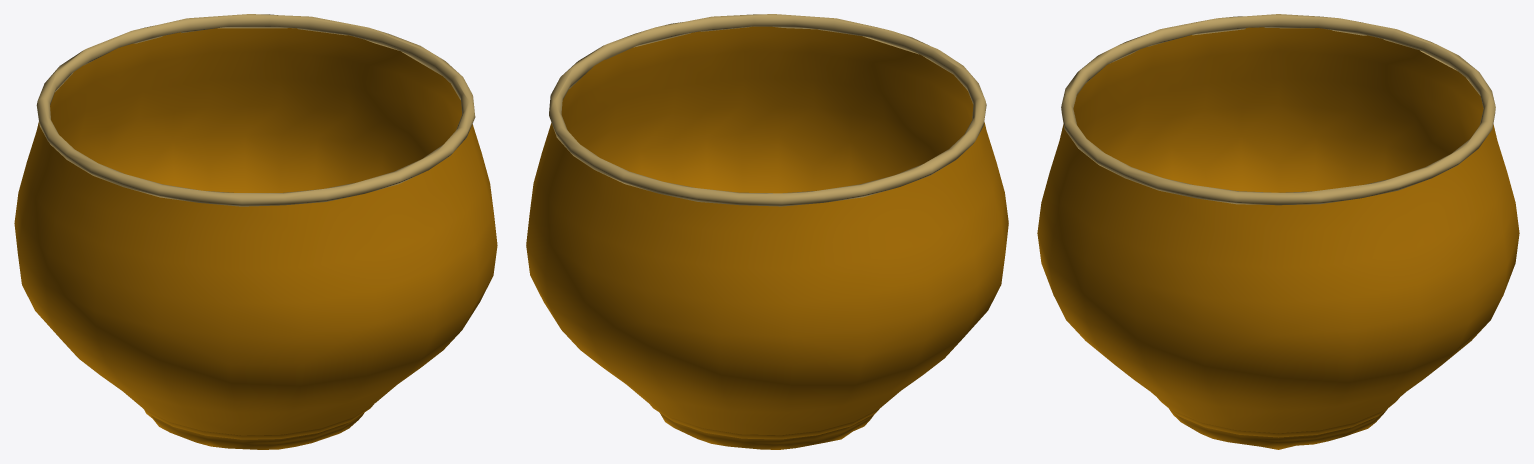
3 views of the same model, side by side, from view 1: azimuth 30°, elevation 25°; view 2: azimuth 150°, elevation 25°; view 3: azimuth 270°, elevation 25° (orthographic).
Visible parts, largest first — view 1: 2541021; view 2: 2541021; view 3: 2541021.
Boxes of the visible parts, x1=… form: 2541021: x1=14, y1=14, x2=497, y2=449; 2541021: x1=526, y1=14, x2=1008, y2=449; 2541021: x1=1037, y1=14, x2=1519, y2=449.
Size of the model in its own units: 114 by 77.94 by 114.
